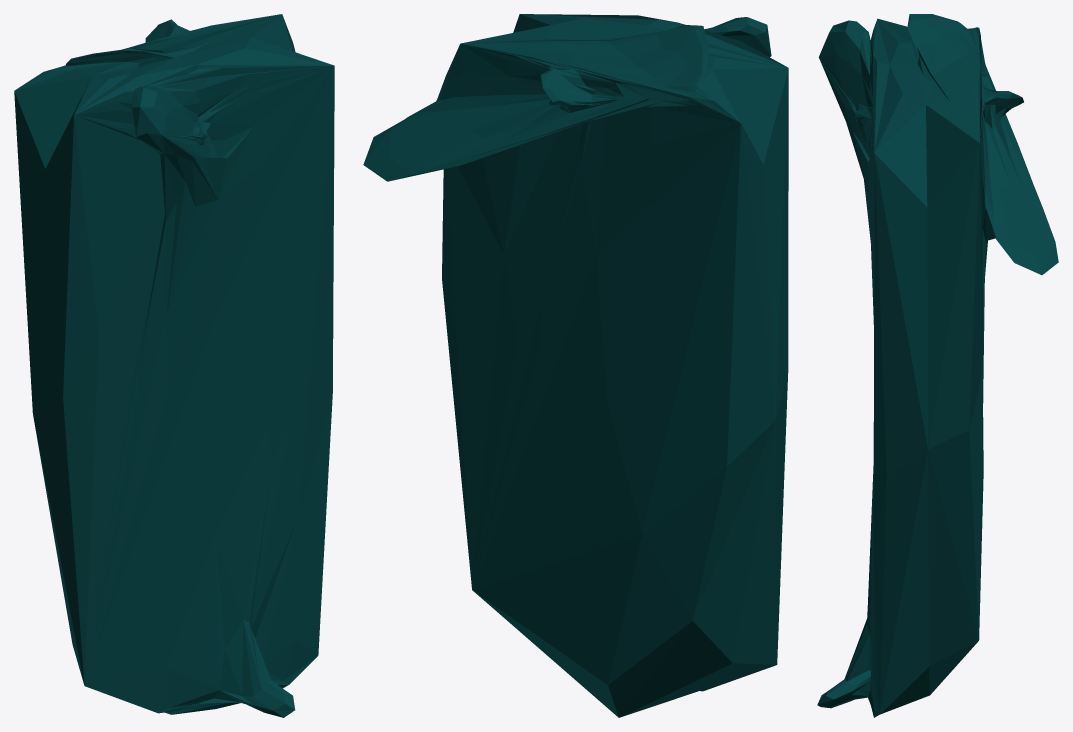
3 renders of one model, left to right at view 1: azimuth 30°, elevation 25°; view 2: azimuth 150°, elevation 25°; view 3: azimuth 270°, elevation 25°, orthographic. The views are drawn at different scales.
Parts seen in each view (by area): view 1: 752_Cube.3024; view 2: 752_Cube.3024; view 3: 752_Cube.3024.
Part boxes in pixels (x1,y1,x2,y2): 752_Cube.3024: [14, 14, 334, 717]; 752_Cube.3024: [363, 14, 788, 717]; 752_Cube.3024: [817, 14, 1058, 717].
Size of the model in its own units: 6.38 by 12.03 by 4.06.
